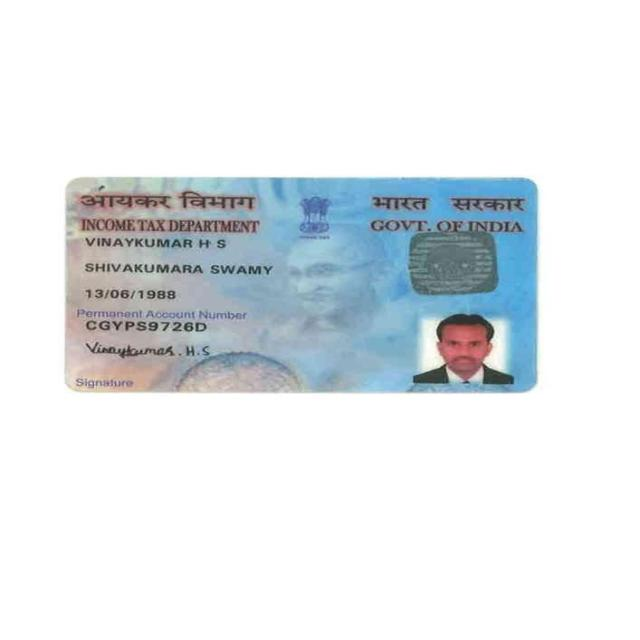pan_card: (66, 179, 533, 391)
